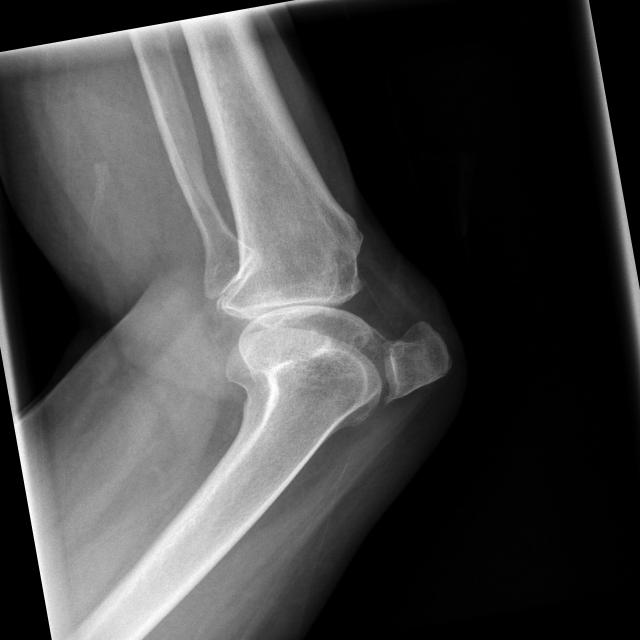Knee: (198, 217, 458, 436)
